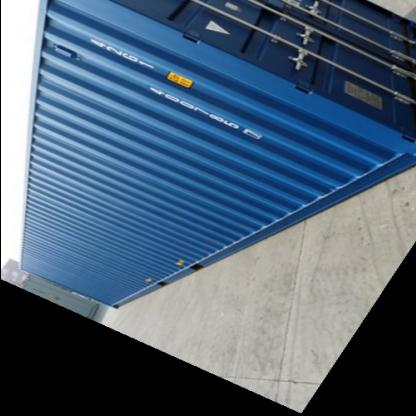Damage: (34, 252, 64, 274), (162, 256, 190, 271)
